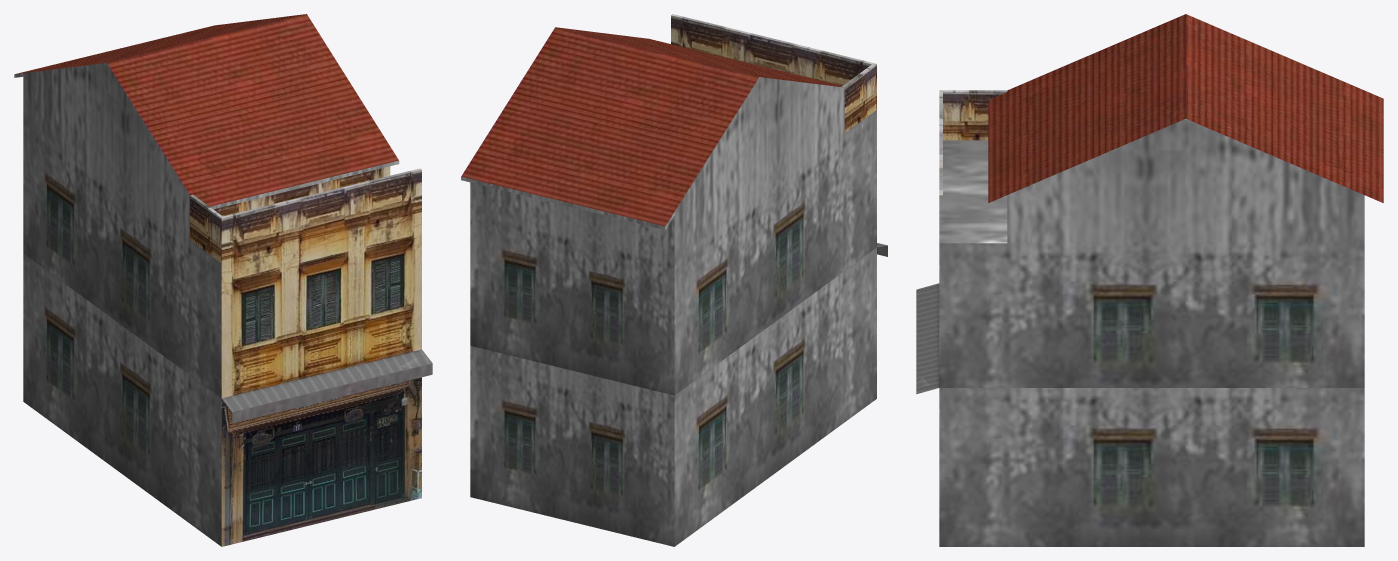
The picture shows the model from 3 angles, left to right: view 1: azimuth 30°, elevation 25°; view 2: azimuth 150°, elevation 25°; view 3: azimuth 270°, elevation 25°; orthographic projection. The views are drawn at different scales.
Parts seen in each view (by area): view 1: HN987_OliveSnack_Drink; view 2: HN987_OliveSnack_Drink; view 3: HN987_OliveSnack_Drink.
Boxes of the visible parts, x1=… form: HN987_OliveSnack_Drink: x1=14, y1=14, x2=432, y2=546; HN987_OliveSnack_Drink: x1=461, y1=14, x2=887, y2=546; HN987_OliveSnack_Drink: x1=916, y1=14, x2=1383, y2=546.
Size of the model in its own units: 4.66 by 8.89 by 8.79.
1 material, 1 textured.
